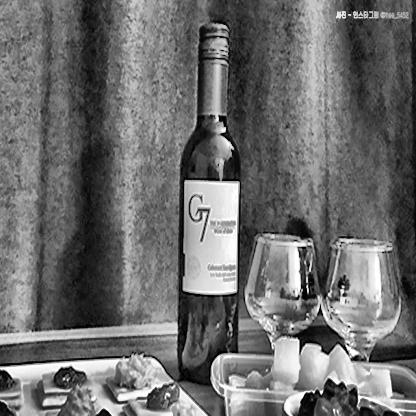G7: (184, 178, 238, 298)
